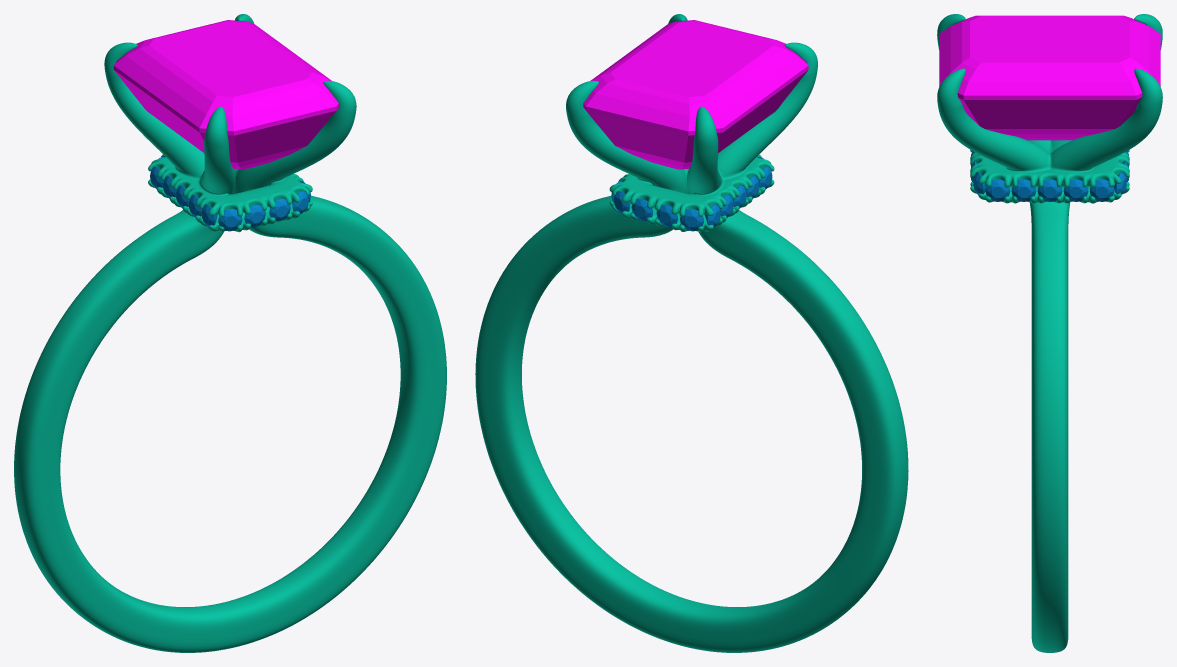
The model's file is BE1D13065_EM_200ct_RENDER.glb.
3 views of the same model, side by side, from view 1: azimuth 30°, elevation 25°; view 2: azimuth 150°, elevation 25°; view 3: azimuth 270°, elevation 25° (orthographic).
Visible parts, largest first — view 1: Metal 01, CS_Diamond_Emerald; view 2: Metal 01, CS_Diamond_Emerald; view 3: Metal 01, CS_Diamond_Emerald, Diamond_Round_Gem_HD, Diamond_Round_Gem_HD.004, Diamond_Round_Gem_HD.008, Diamond_Round_Gem_HD.007, Diamond_Round_Gem_HD.003.
Part boxes in pixels (<box>): Metal 01: <box>14,14,446,652</box>; CS_Diamond_Emerald: <box>113,20,338,169</box>; Metal 01: <box>475,14,908,652</box>; CS_Diamond_Emerald: <box>583,20,808,169</box>; Metal 01: <box>937,14,1162,652</box>; CS_Diamond_Emerald: <box>939,15,1160,140</box>; Diamond_Round_Gem_HD: <box>1037,179,1062,201</box>; Diamond_Round_Gem_HD.004: <box>1063,179,1088,201</box>; Diamond_Round_Gem_HD.008: <box>1011,179,1036,201</box>; Diamond_Round_Gem_HD.007: <box>985,179,1010,201</box>; Diamond_Round_Gem_HD.003: <box>1089,179,1114,201</box>.
Size of the model in its own units: 20.11 by 26.49 by 9.18.
